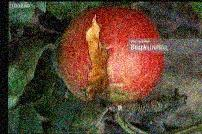rotten apple: (54, 6, 165, 103)
